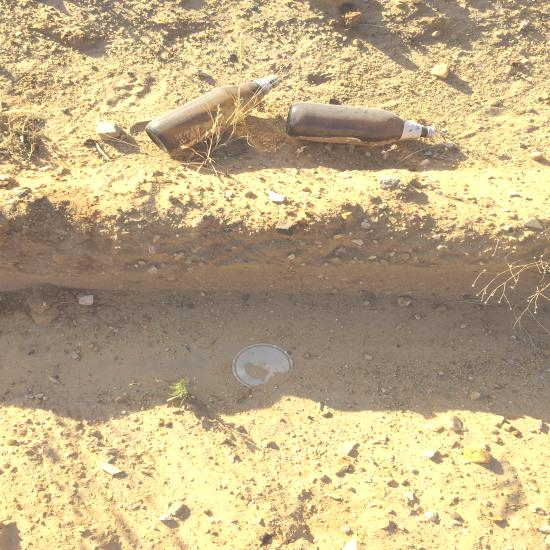Glass bottle: (145, 75, 281, 154), (285, 101, 436, 146)
Metal bottle cap: (269, 75, 281, 87), (428, 126, 436, 138)
Plastic lid: (232, 344, 293, 387)
